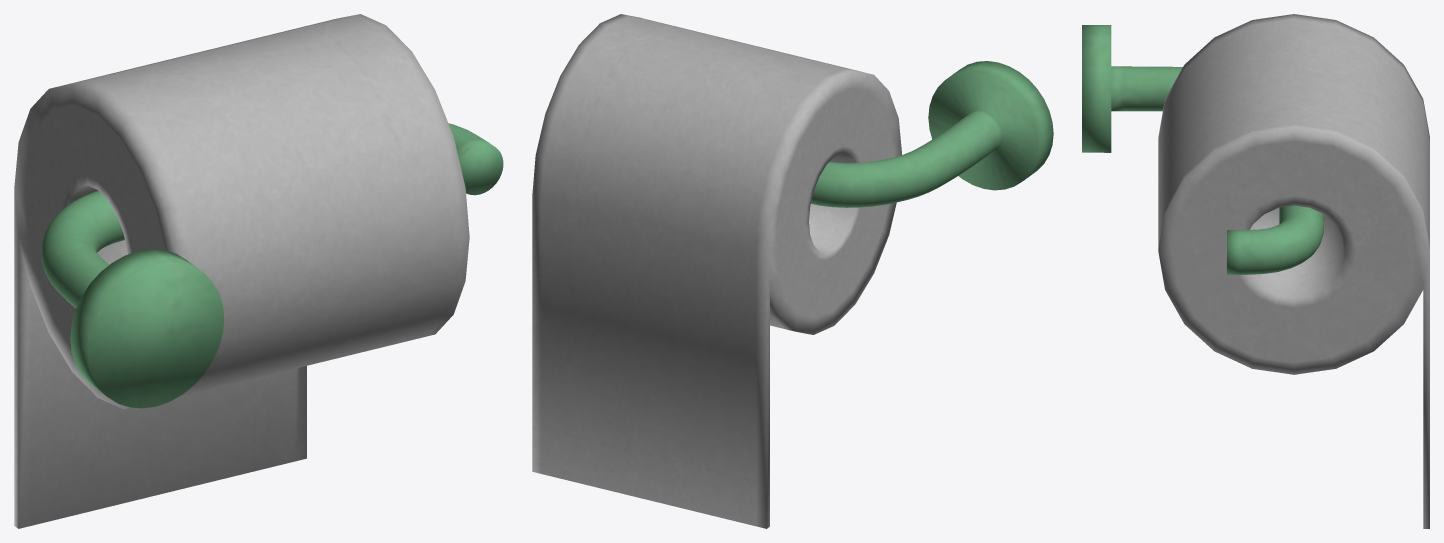
Rendered from carta.fbx.
3 views of the same model, side by side, from view 1: azimuth 30°, elevation 25°; view 2: azimuth 150°, elevation 25°; view 3: azimuth 270°, elevation 25° (orthographic). The views are drawn at different scales.
Parts seen in each view (by area): view 1: porta_cartaig; view 2: porta_cartaig; view 3: porta_cartaig.
Boxes of the visible parts, x1,y1,x2,y2 form: porta_cartaig: [14, 14, 503, 528]; porta_cartaig: [532, 14, 1053, 528]; porta_cartaig: [1082, 14, 1429, 528].
Size of the model in its own units: 25.71 by 23.92 by 18.85.
